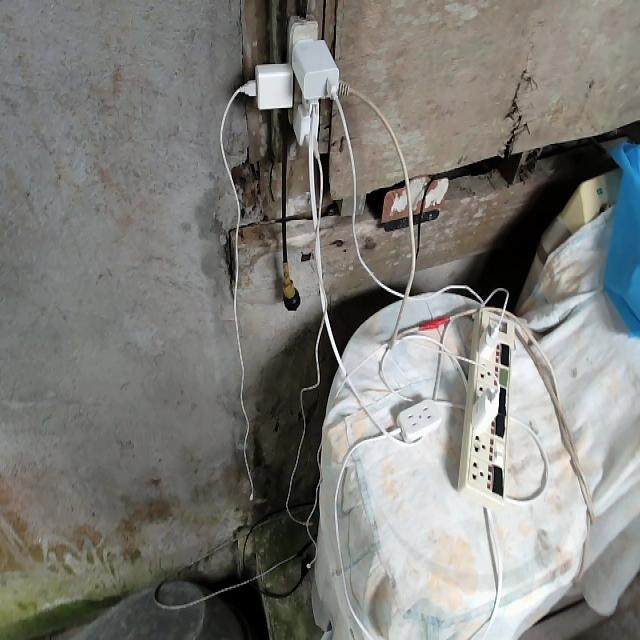-: (237, 12, 348, 157)
